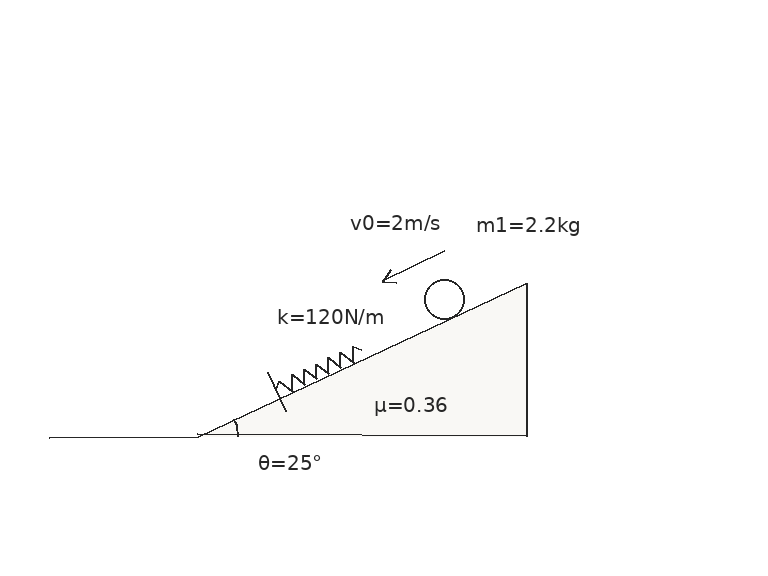ball: (422, 277, 466, 321)
ramp: (196, 281, 528, 438)
spring: (274, 344, 364, 392)
